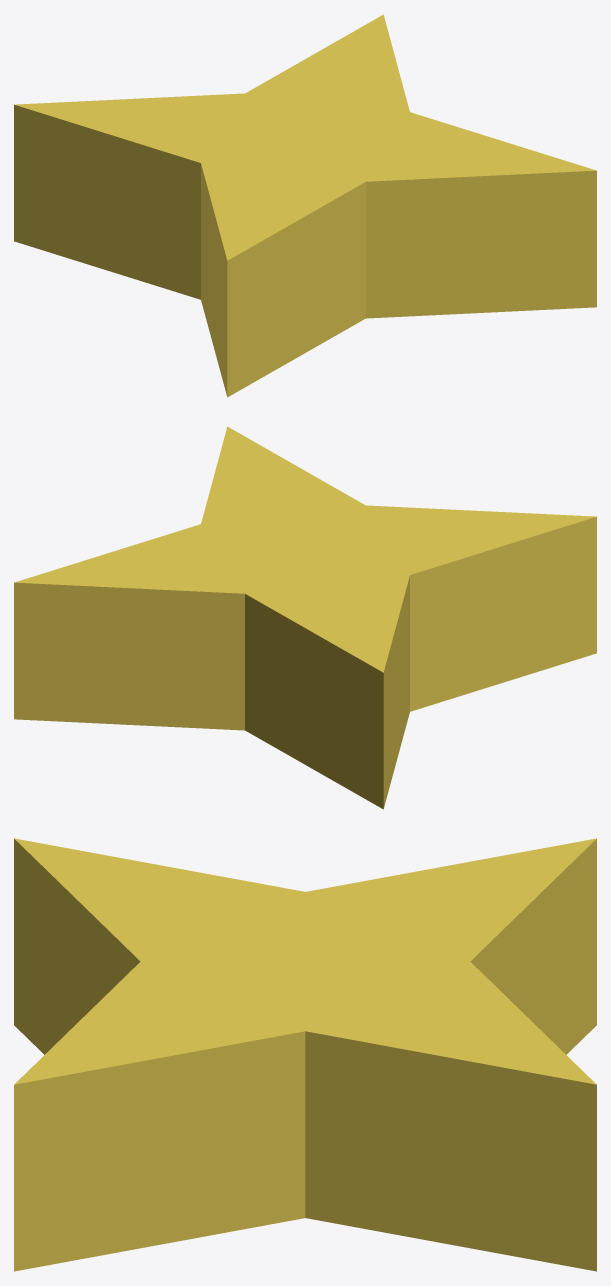
Rendered from star.glb.
3 renders of one model, top to bottom at view 1: azimuth 30°, elevation 25°; view 2: azimuth 150°, elevation 25°; view 3: azimuth 270°, elevation 25°, orthographic. The views are drawn at different scales.
Visible parts, largest first — view 1: Cylinder; view 2: Cylinder; view 3: Cylinder.
Boxes of the visible parts, x1,y1,x2,y2 form: Cylinder: (14,14,596,397); Cylinder: (14,426,596,809); Cylinder: (14,838,596,1271).
Bounding box in the file's own units: 1.41 × 0.5 × 1.41.
